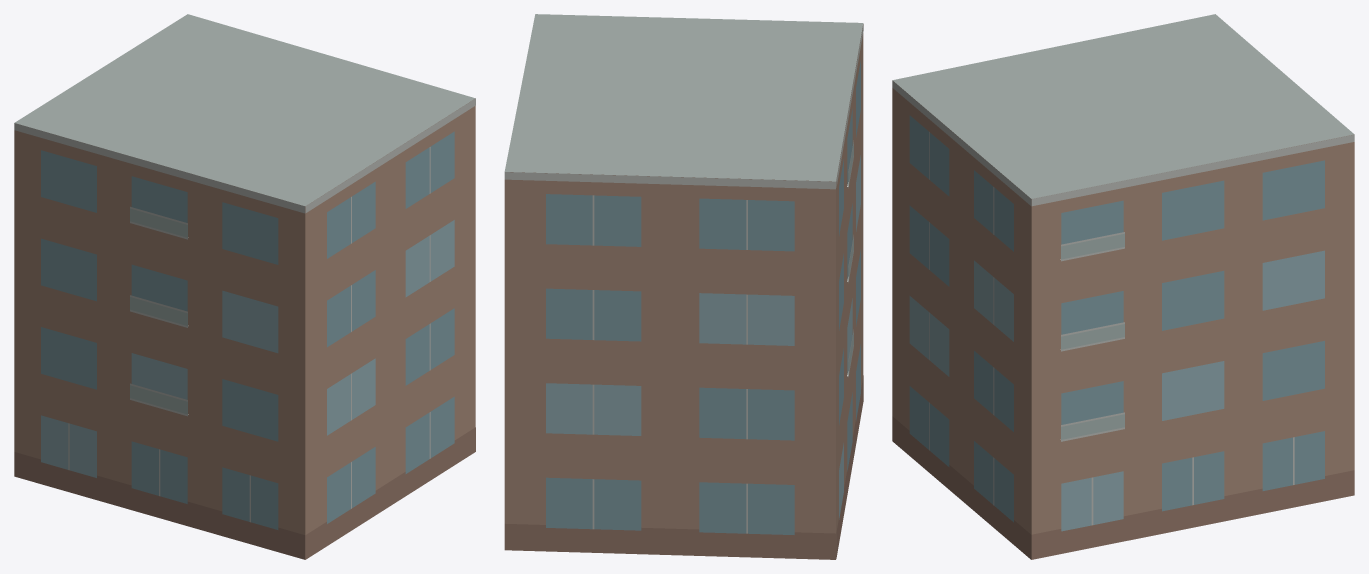
Rendered from survey-upis-32749584.glb.
3 renders of one model, left to right at view 1: azimuth 30°, elevation 25°; view 2: azimuth 150°, elevation 25°; view 3: azimuth 270°, elevation 25°, orthographic. The views are drawn at different scales.
Parts seen in each view (by area): view 1: survey-upis-32749584.tmp; view 2: survey-upis-32749584.tmp; view 3: survey-upis-32749584.tmp.
Part boxes in pixels (x1,y1,x2,y2): survey-upis-32749584.tmp: (14,14,475,559); survey-upis-32749584.tmp: (504,14,863,559); survey-upis-32749584.tmp: (892,14,1354,559).
Size of the model in its own units: 13.09 by 11.9 by 13.83.
